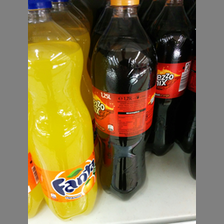soda: (28, 1, 99, 219), (91, 1, 158, 201), (148, 1, 193, 156)
